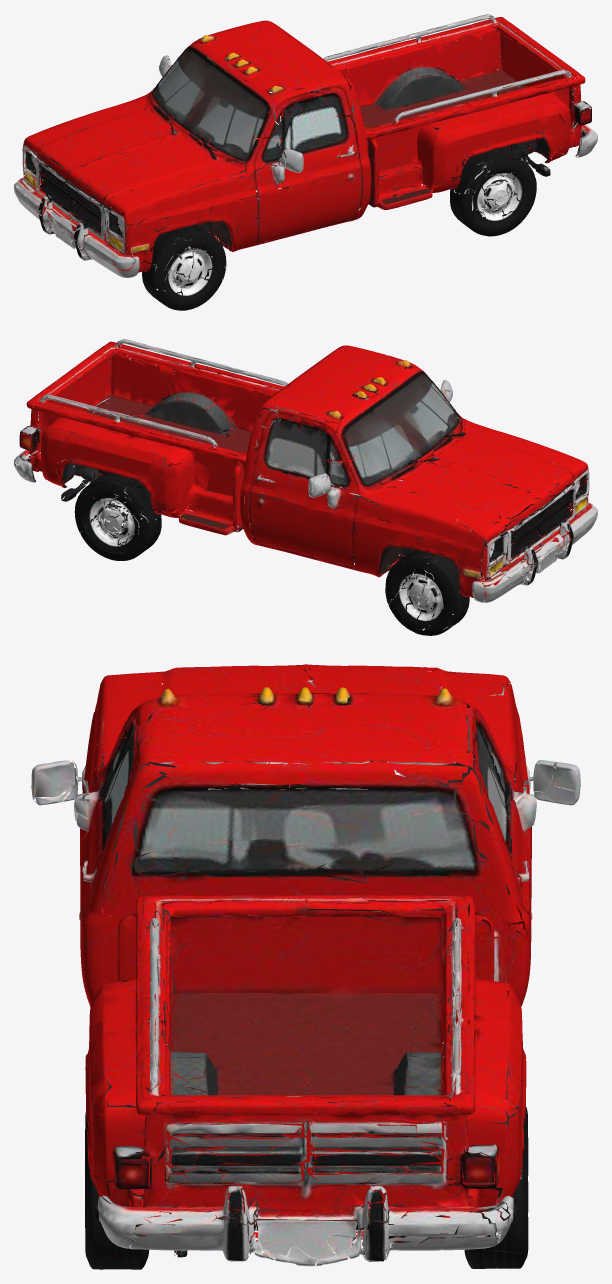
Rendered from truck.glb.
The picture shows the model from 3 angles, top to bottom: view 1: azimuth 30°, elevation 25°; view 2: azimuth 150°, elevation 25°; view 3: azimuth 270°, elevation 25°; orthographic projection. The views are drawn at different scales.
Size of the model in its own units: 1.9 by 0.6809 by 0.9073.
1 material, 1 textured.
